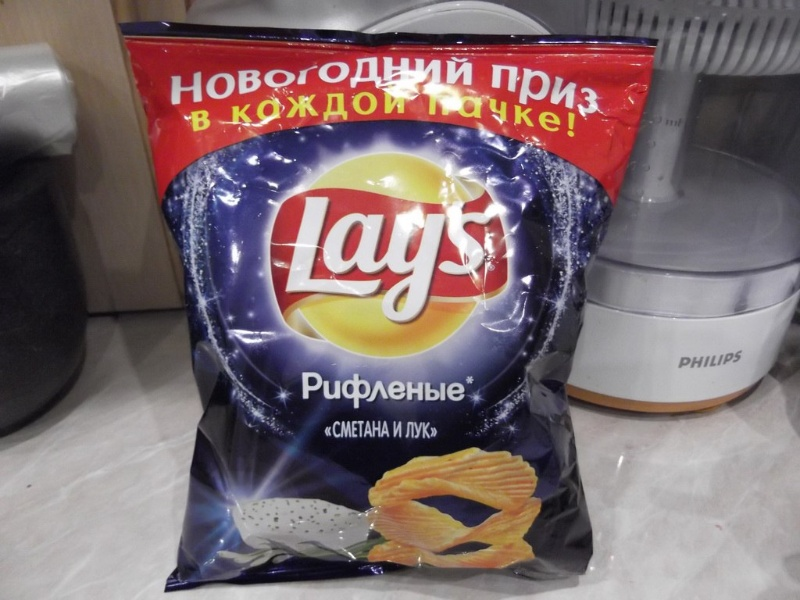chips: (116, 21, 633, 597)
